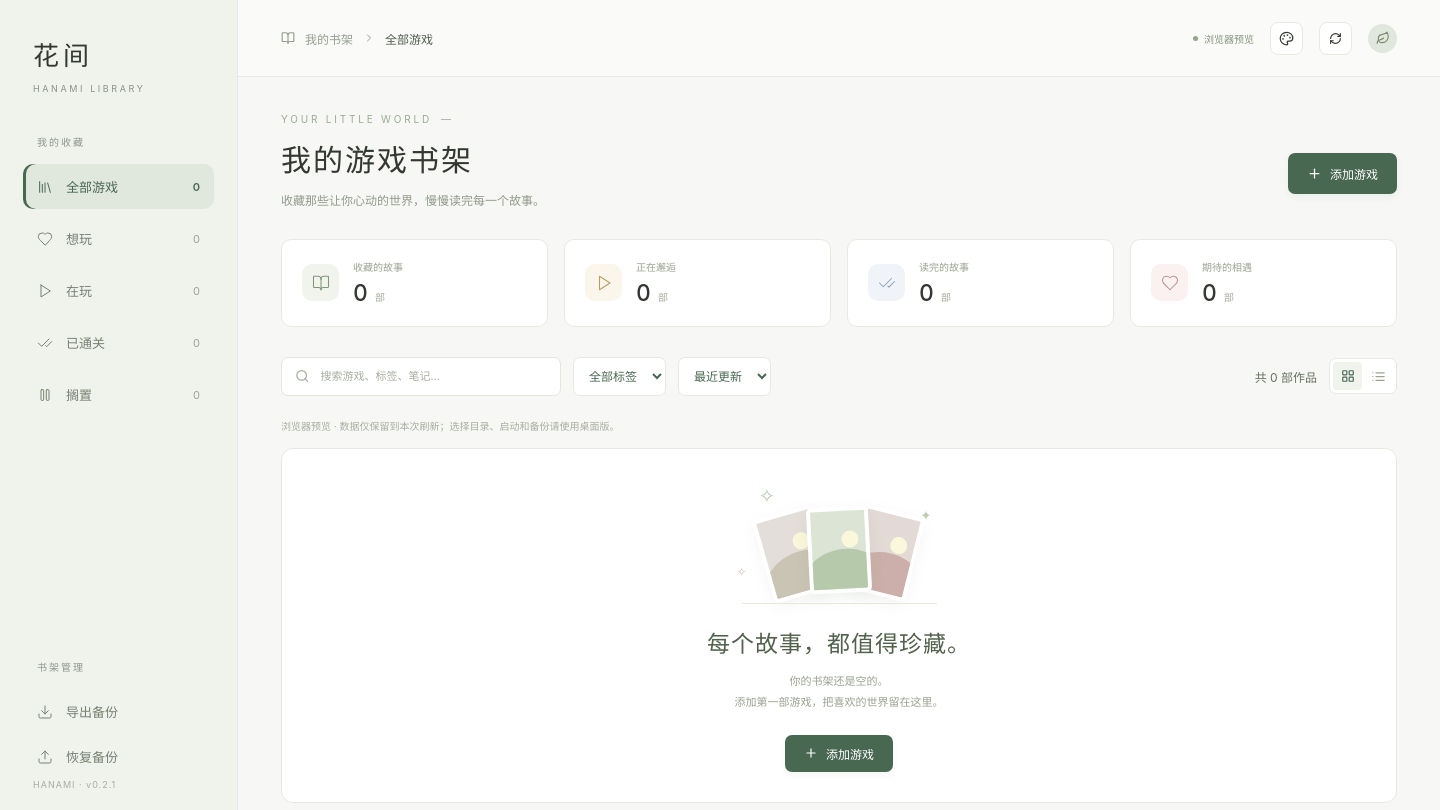
Test: 空库引导，添加游戏，编辑评分，筛选区分空结果
Check: the heading "每个故事，都值得珍藏。" is shown, box [707, 625, 971, 659]
Click the button "添加游戏" in the row of "我的游戏书架": (1342, 174) [1288, 153, 1397, 194]
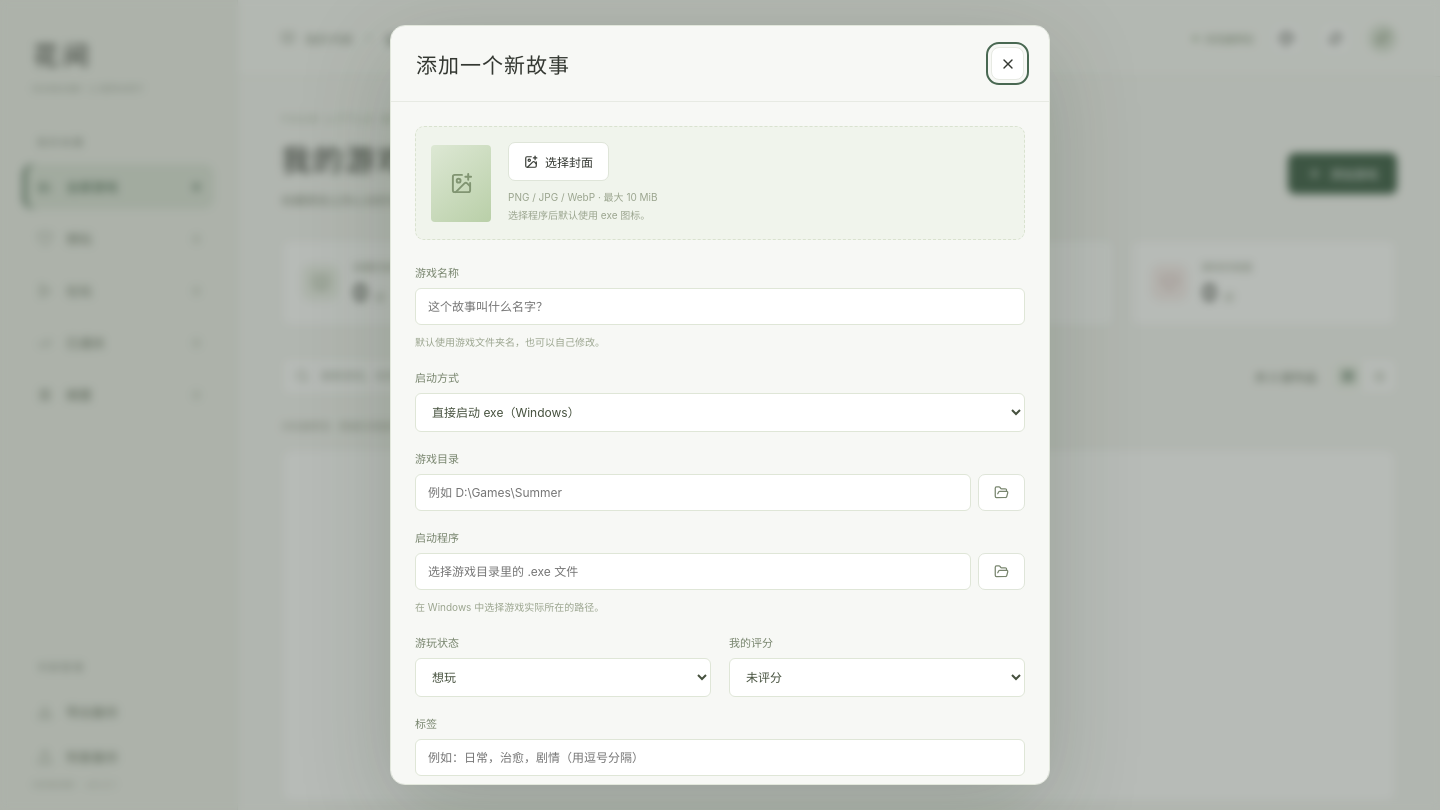
In the field labelled "游戏名称": (720, 306) [415, 288, 1025, 325], type "夏日回忆"
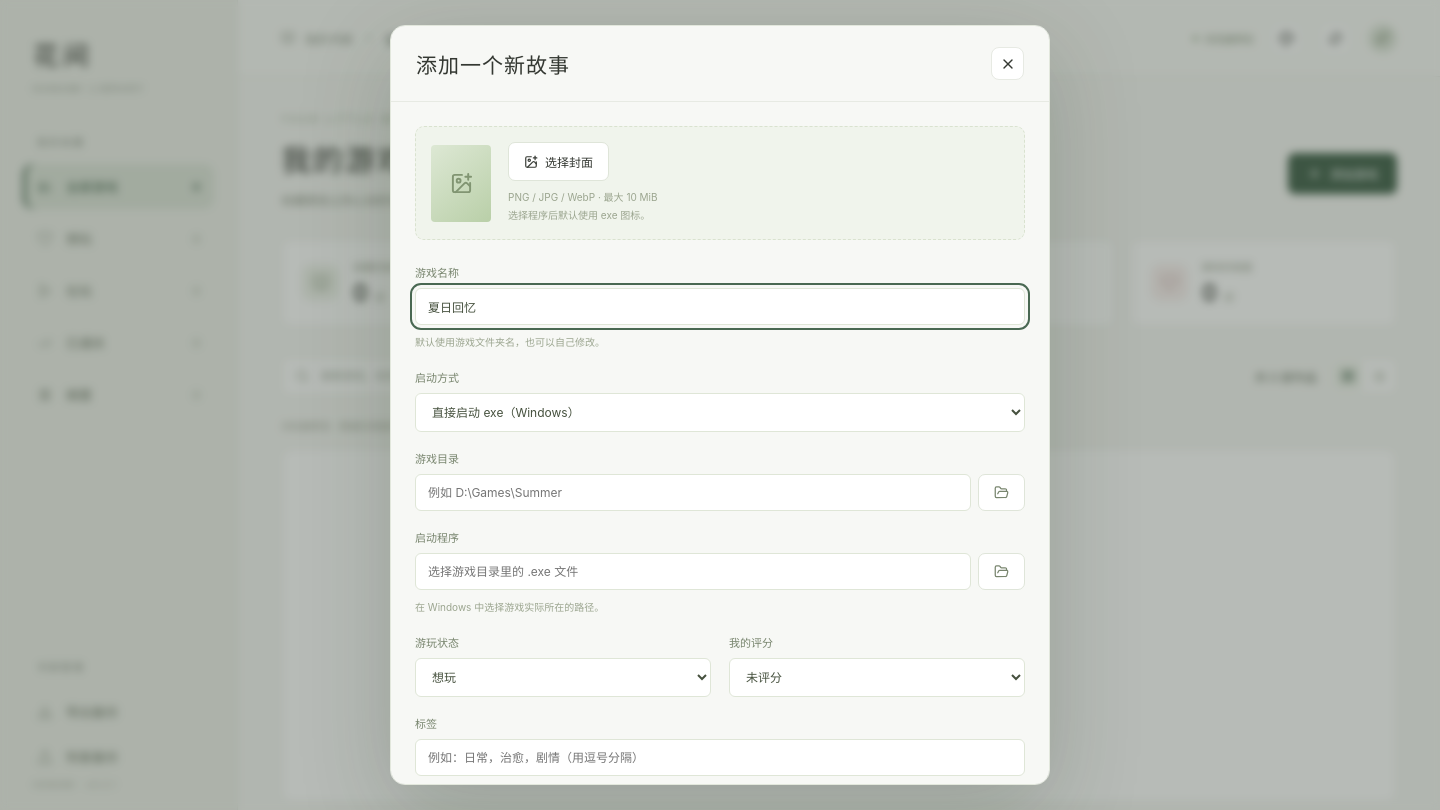
In the field labelled "游戏目录": (693, 492) [415, 474, 971, 511], type "C:\\Games\\Summer"
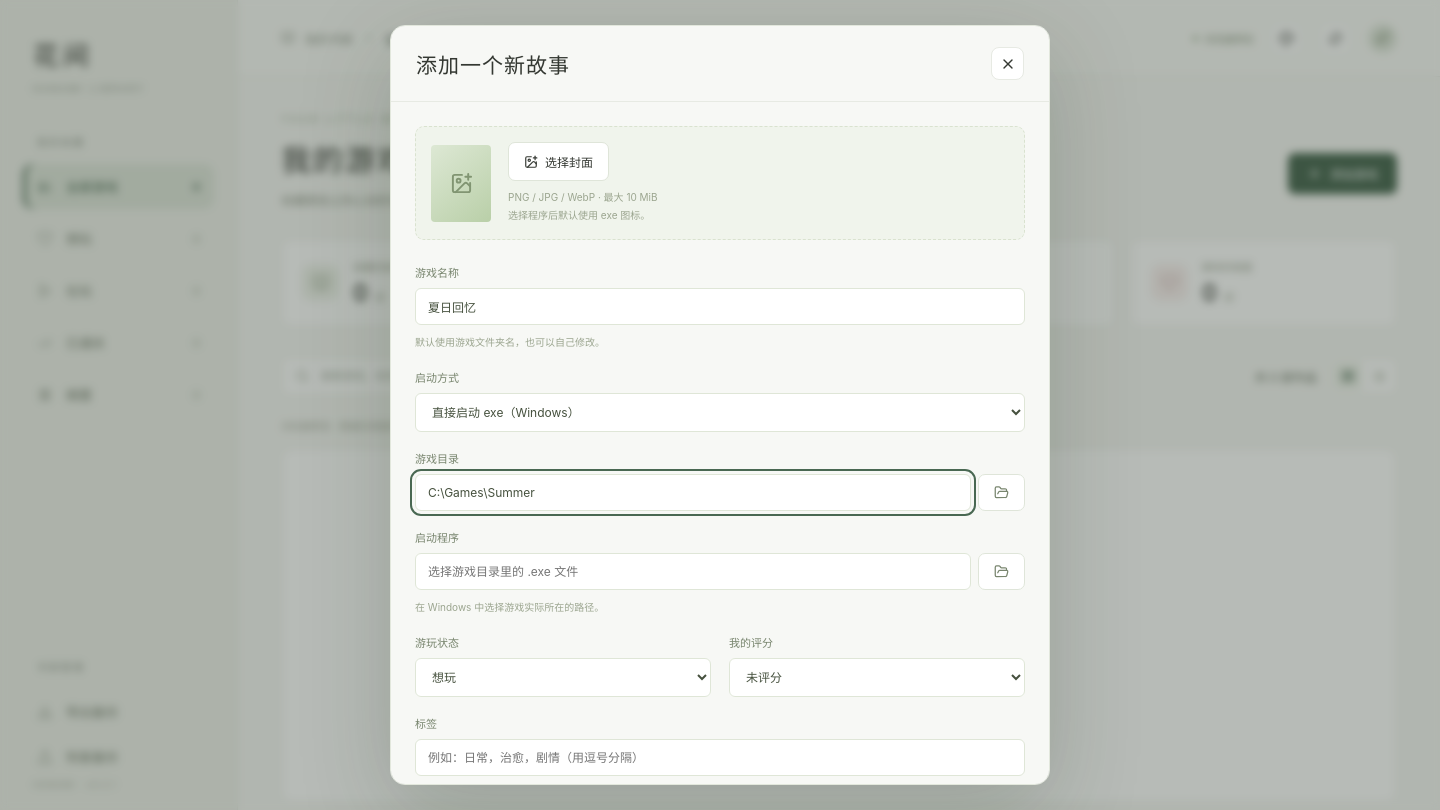
In the field labelled "启动程序": (693, 572) [415, 553, 971, 590], type "C:\\Games\\Summer\\game.exe"
(page scrolled)
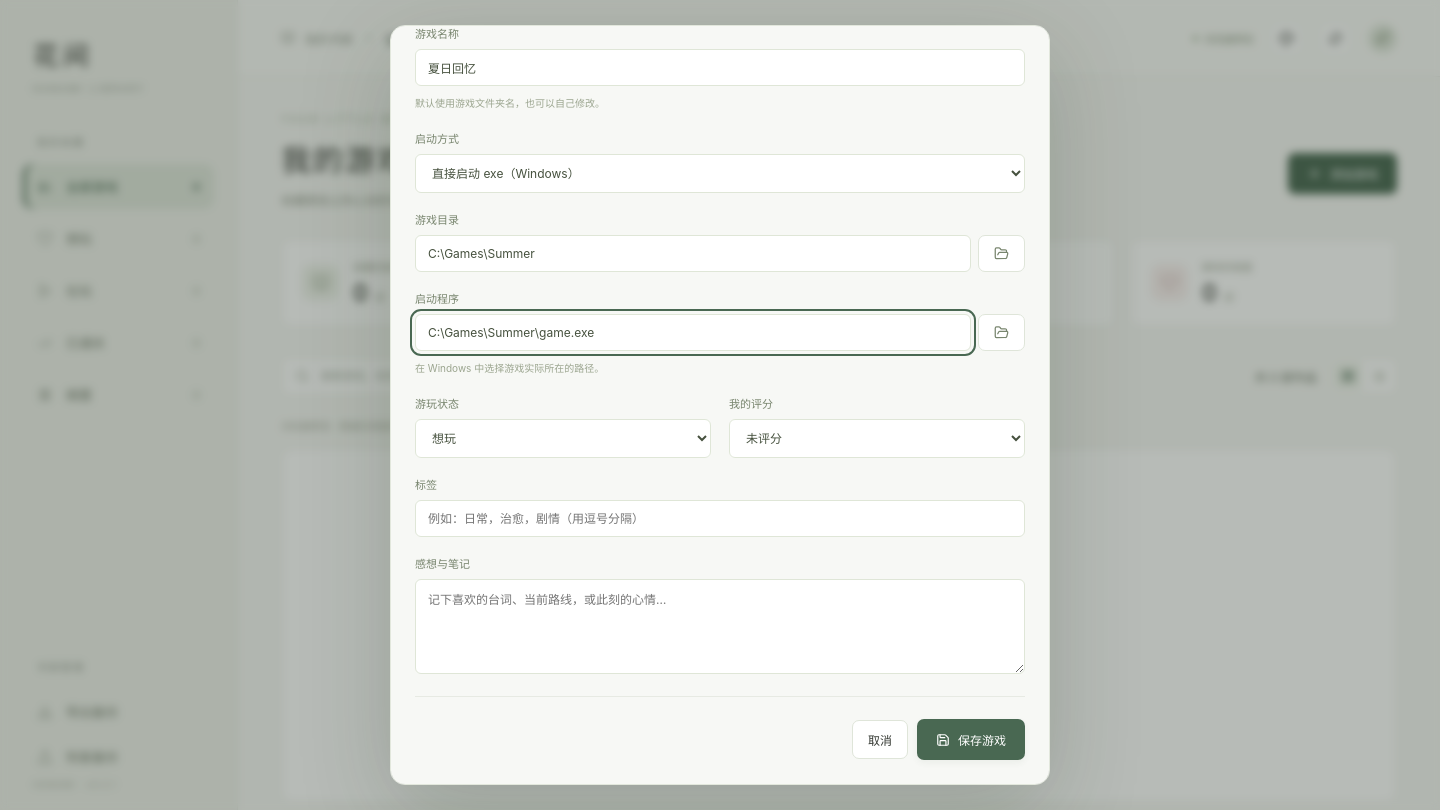
Click the button "保存游戏": (971, 740) [917, 719, 1025, 760]
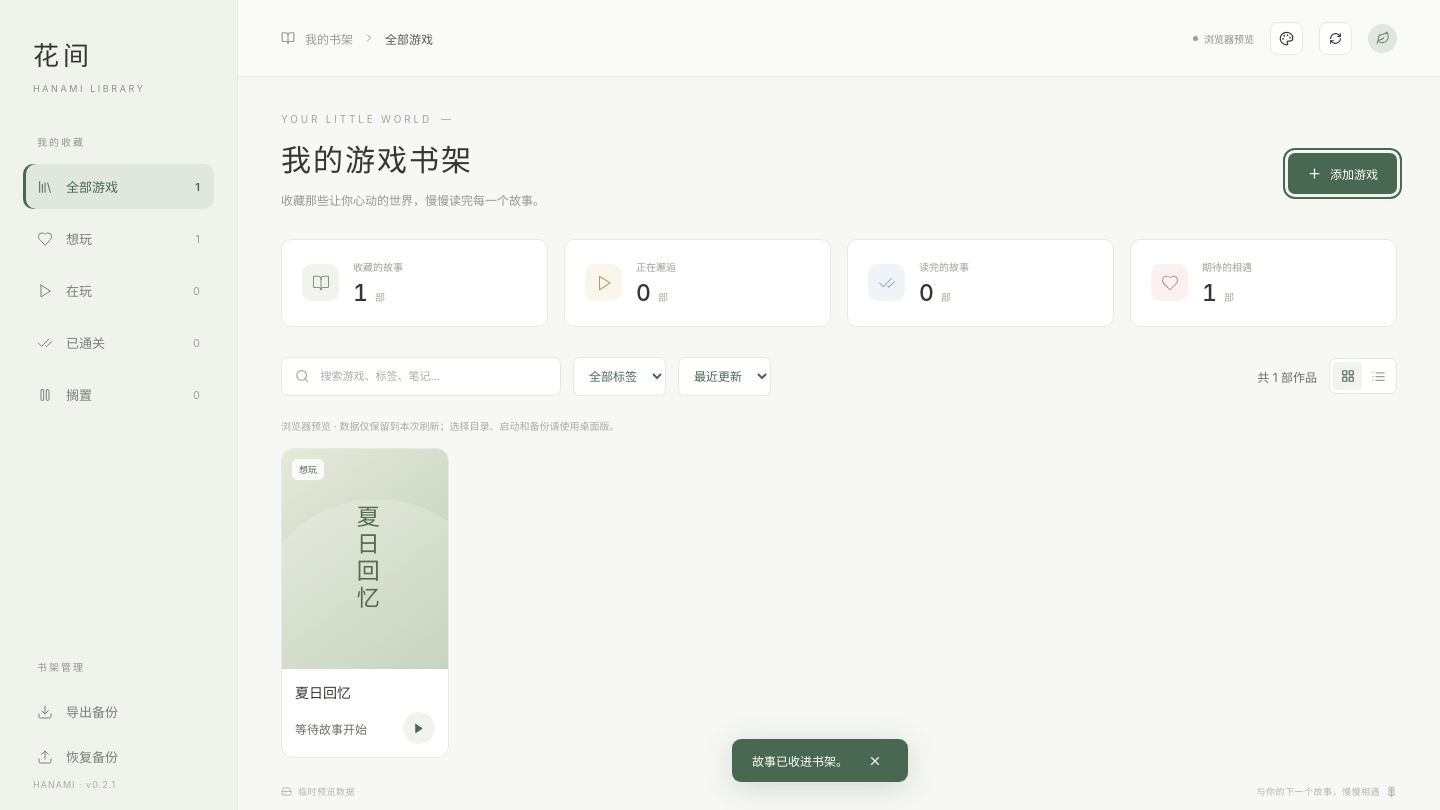
Check: the button with aria-label "查看 夏日回忆" is shown, box [282, 449, 448, 670]
In the field with placeholder "搜索游戏、标签、笔记…": (433, 376) [318, 368, 547, 384], type "不存在"
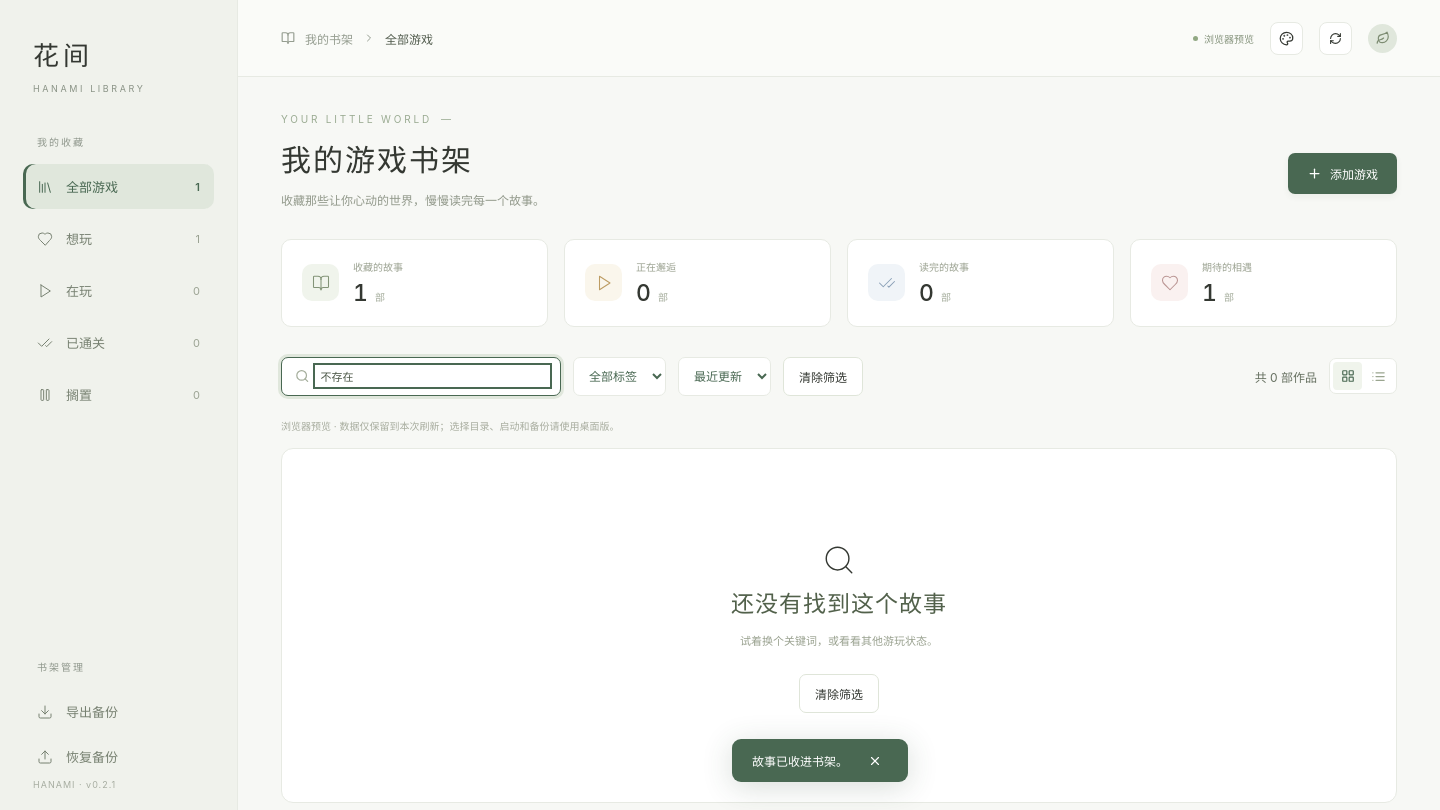
Check: the heading "每个故事，都值得珍藏。" is not shown
Check: the heading "还没有找到这个故事" is shown, box [731, 585, 947, 619]
